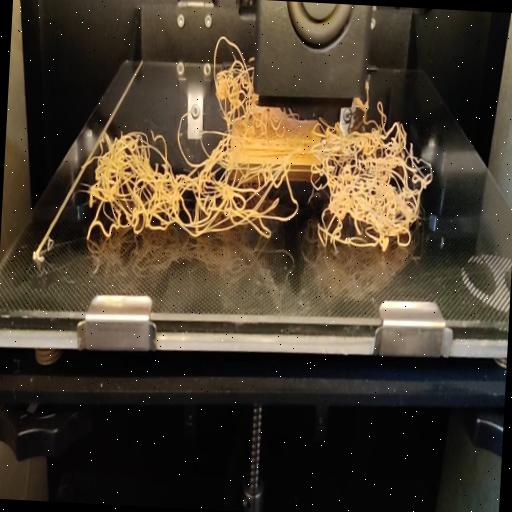spaghetti: (76, 95, 438, 260), (210, 27, 258, 102), (362, 78, 383, 108)
